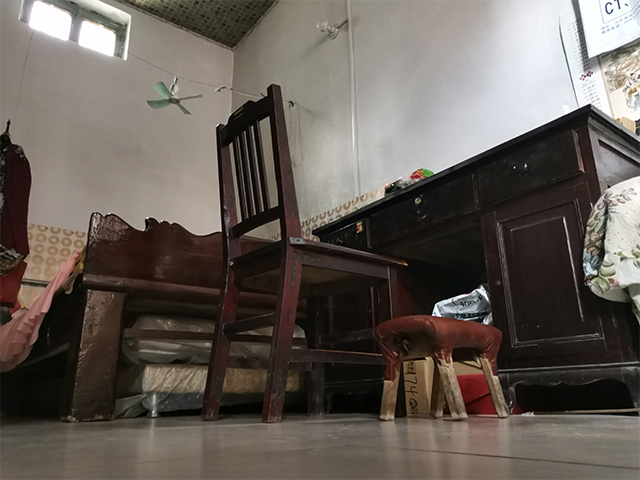bed: (1, 211, 281, 424)
cabinet: (307, 101, 639, 416)
stool: (199, 81, 410, 424), (370, 314, 512, 422)
